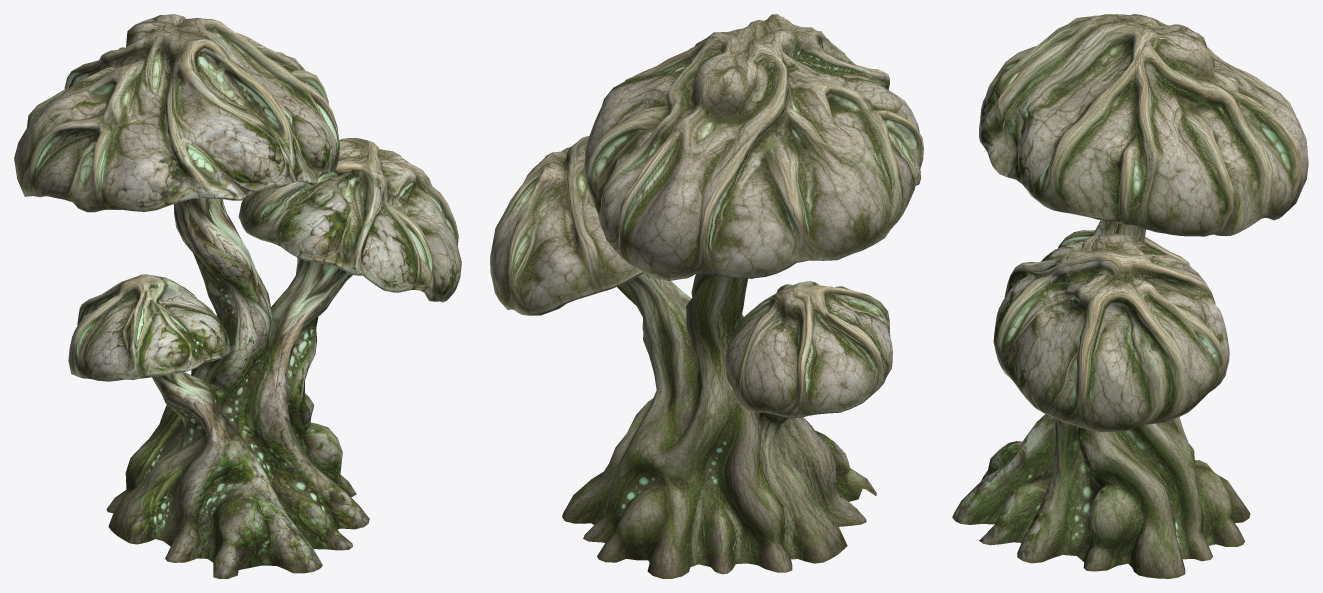
Rendered from giant-mushroom-cluster.glb.
3 views of the same model, side by side, from view 1: azimuth 30°, elevation 25°; view 2: azimuth 150°, elevation 25°; view 3: azimuth 270°, elevation 25° (orthographic). The views are drawn at different scales.
Visible parts, largest first — view 1: mesh_node; view 2: mesh_node; view 3: mesh_node.
Part boxes in pixels (x1,y1,x2,y2): mesh_node: (14, 14, 461, 578); mesh_node: (490, 14, 923, 578); mesh_node: (952, 14, 1308, 578).
Size of the model in its own units: 0.8477 by 1 by 0.6738.
Materials: 1 (1 with a texture image).
